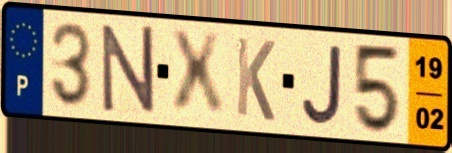3: (47, 20, 95, 110)
5: (351, 40, 408, 137)
J: (299, 42, 345, 128)
K: (234, 33, 278, 125)
N: (99, 23, 158, 116)
X: (167, 29, 228, 120)
